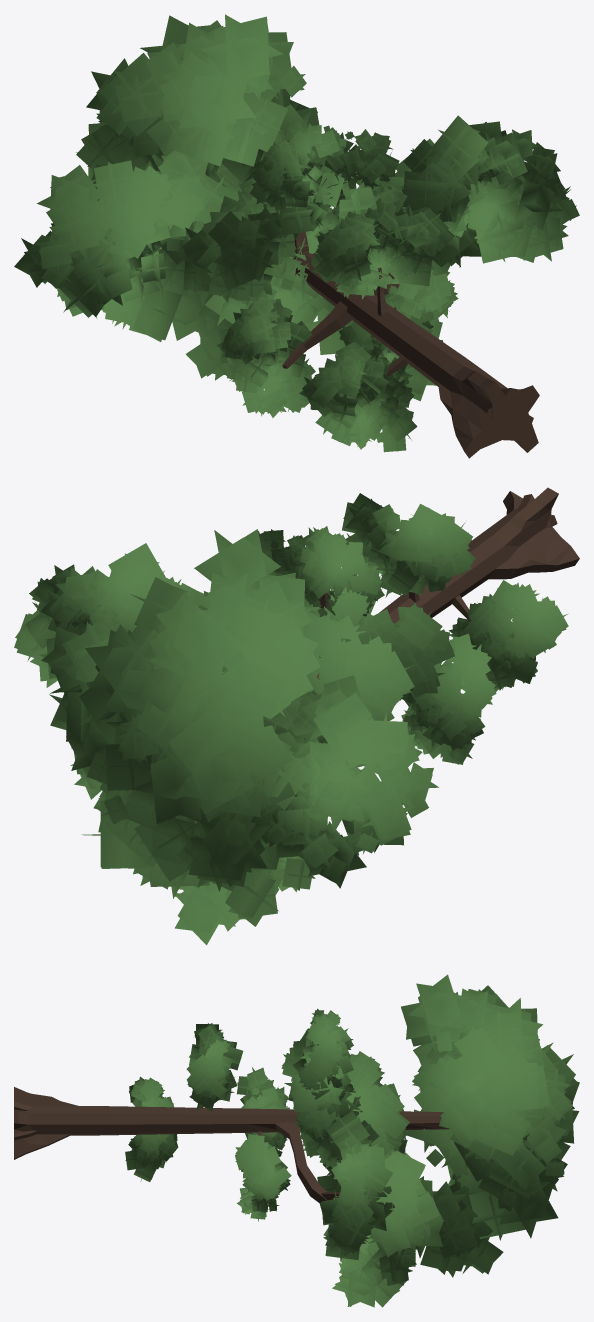
File: Massive Trees.fbx
The picture shows the model from 3 angles, top to bottom: view 1: azimuth 30°, elevation 25°; view 2: azimuth 150°, elevation 25°; view 3: azimuth 270°, elevation 25°; orthographic projection. The views are drawn at different scales.
Parts seen in each view (by area): view 1: Large Jungle Tree 2 LOD 0, Large Jungle Tree 1 LOD 0; view 2: Large Jungle Tree 2 LOD 0, Large Jungle Tree 1 LOD 0; view 3: Large Jungle Tree 2 LOD 0, Large Jungle Tree 1 LOD 0.
Part boxes in pixels (bbox=[...]): Large Jungle Tree 2 LOD 0: bbox=[14, 14, 579, 458]; Large Jungle Tree 1 LOD 0: bbox=[177, 165, 533, 452]; Large Jungle Tree 2 LOD 0: bbox=[14, 487, 579, 945]; Large Jungle Tree 1 LOD 0: bbox=[303, 493, 568, 743]; Large Jungle Tree 2 LOD 0: bbox=[14, 974, 579, 1307]; Large Jungle Tree 1 LOD 0: bbox=[14, 1023, 411, 1221].
Size of what is drawn, in the model's own units: 28551 by 22199 by 38658.
